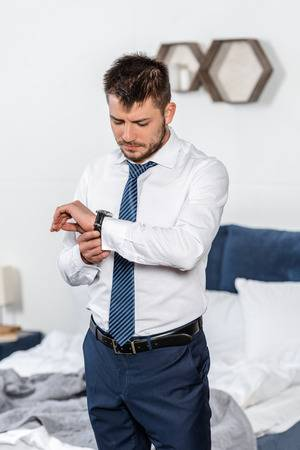F_belt: (82, 317, 213, 351)
F_shirt: (55, 132, 230, 338)
F_tie: (104, 158, 151, 345)
